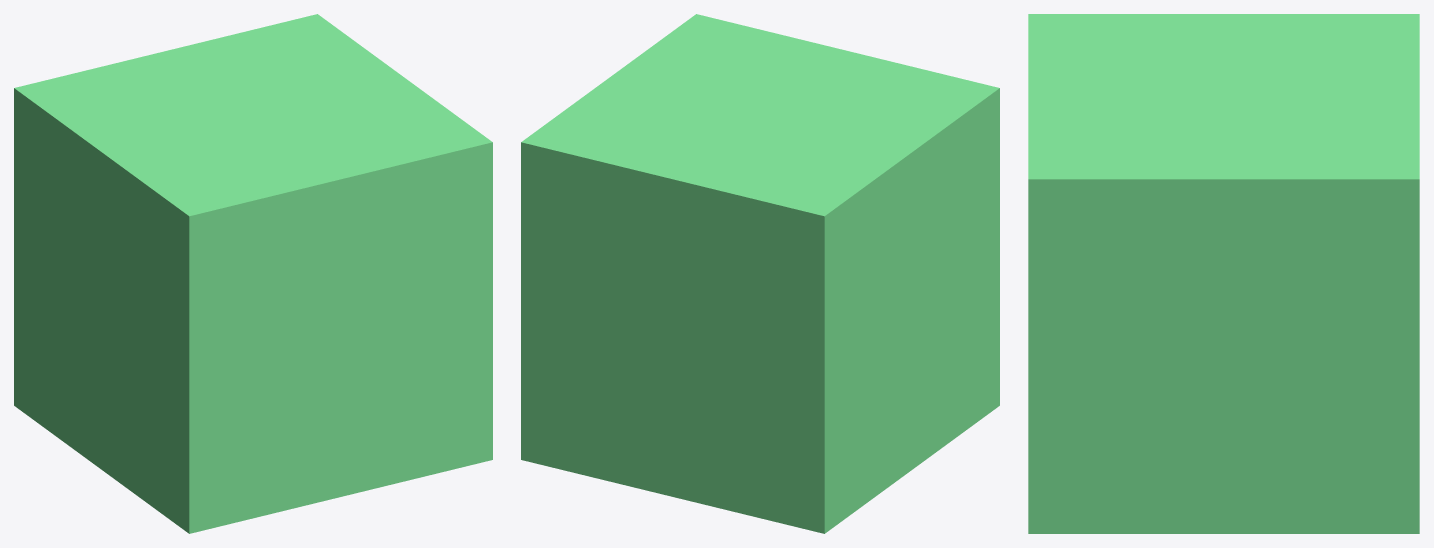
The model's file is growth_cube.glb.
3 views of the same model, side by side, from view 1: azimuth 30°, elevation 25°; view 2: azimuth 150°, elevation 25°; view 3: azimuth 270°, elevation 25° (orthographic). The views are drawn at different scales.
Visible parts, largest first — view 1: green; view 2: green; view 3: green.
Part boxes in pixels (<box>): green: <box>14,14,492,533</box>; green: <box>521,14,999,533</box>; green: <box>1028,14,1419,533</box>.
Size of the model in its own units: 0.82 by 0.85 by 0.82.
